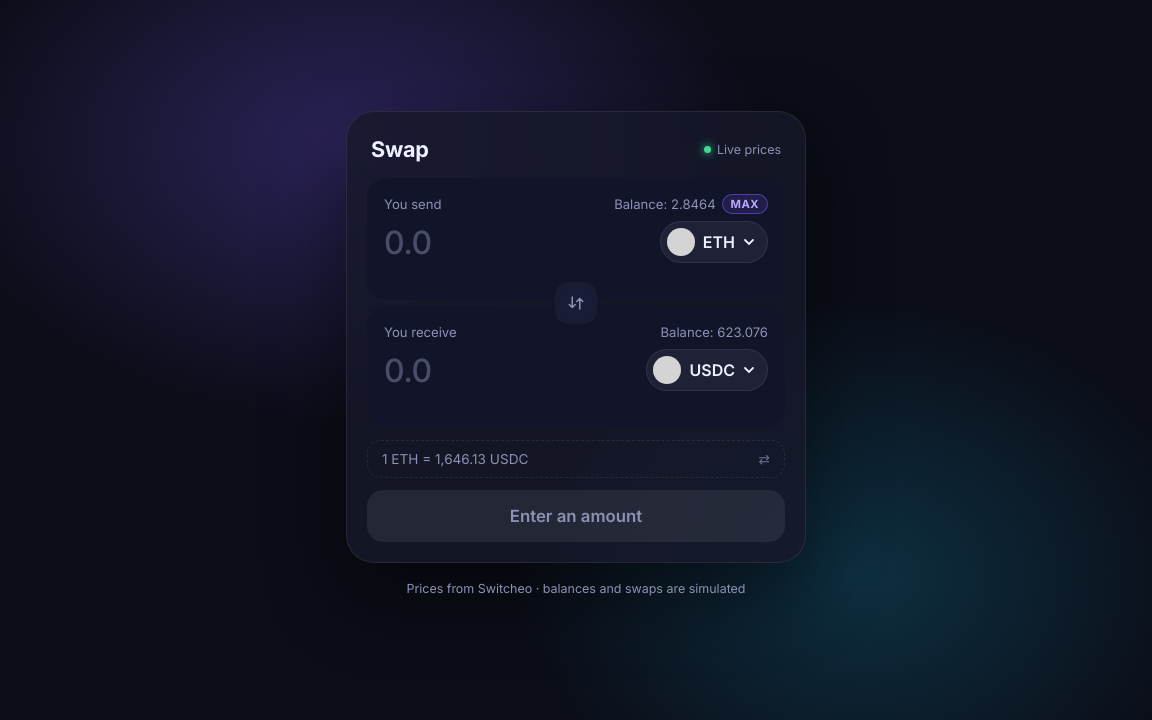
Test case: swap form › shows the error and lets the user retry when the swap fails
In the field labelled "You send": (516, 242) x1=384 y1=223 x2=648 y2=262, type "1"
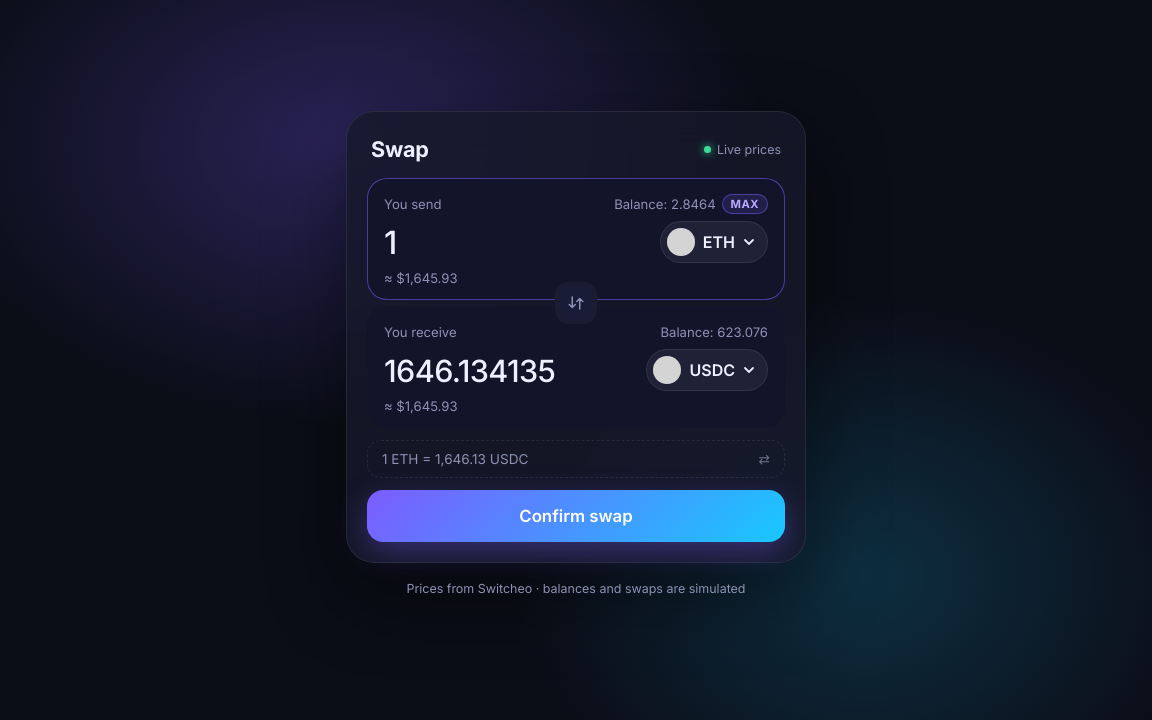
Click the button "Confirm swap": (576, 516) x1=367 y1=490 x2=785 y2=542
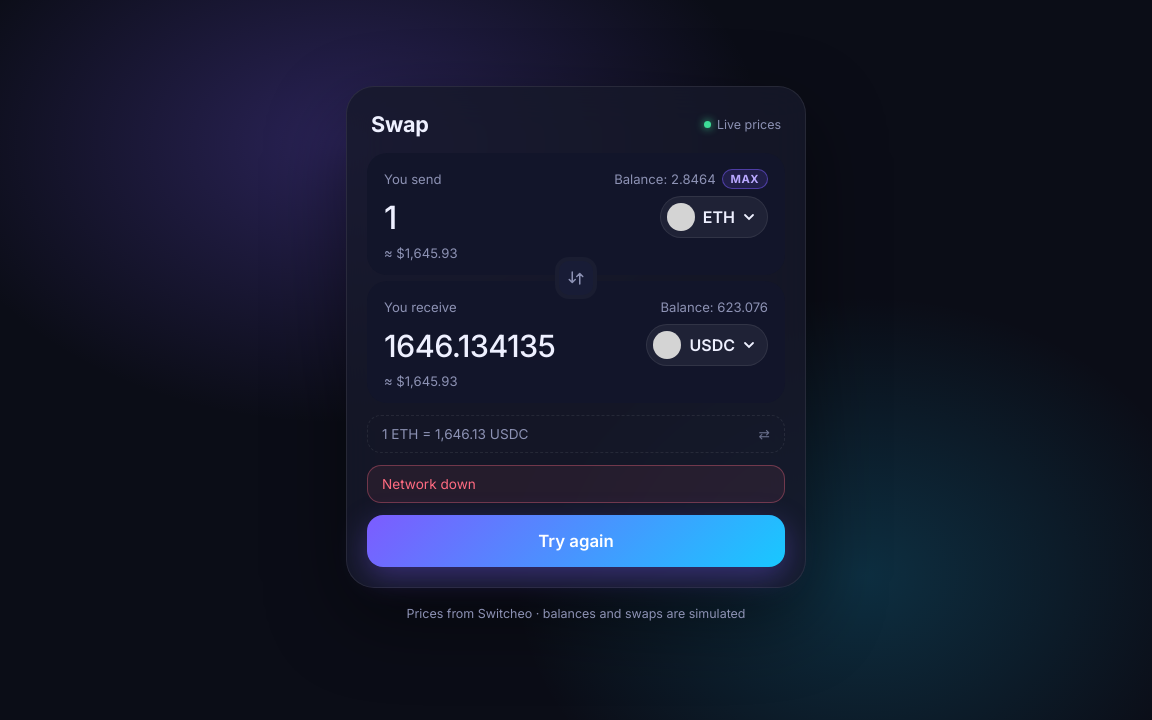
Expected: the text "Network down" is shown, x1=367 y1=465 x2=785 y2=503
Click the button "Try again": (576, 541) x1=367 y1=515 x2=785 y2=567
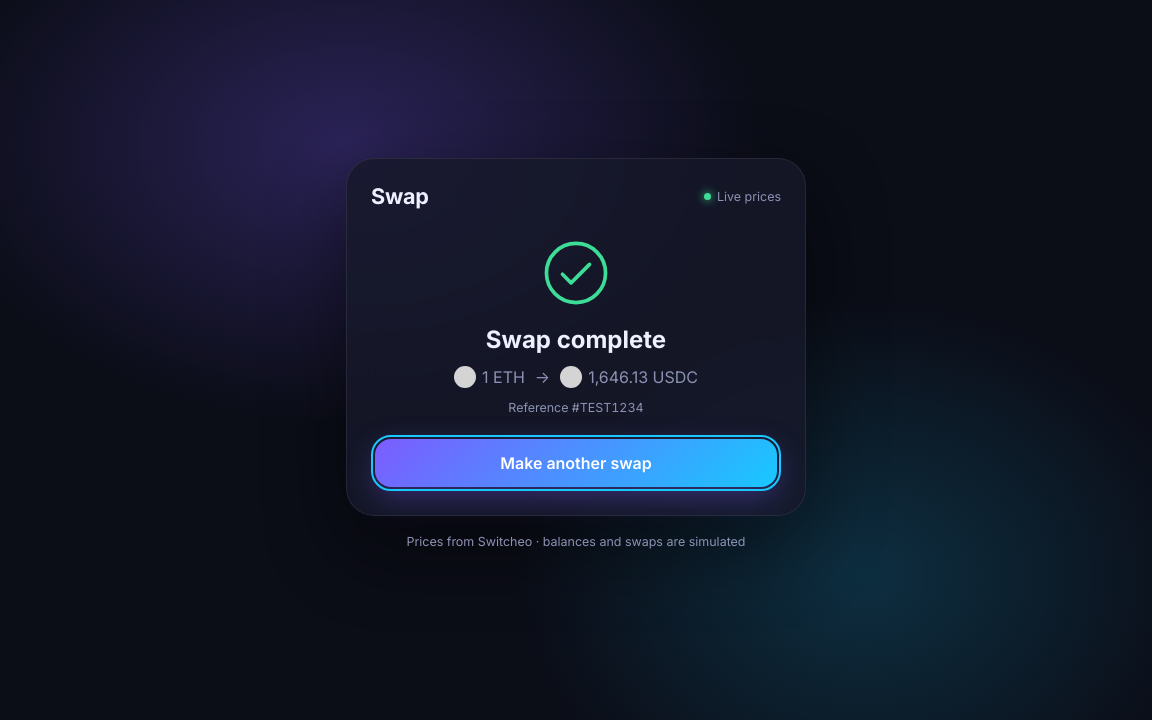
Expected: the heading "Swap complete" is shown, x1=486 y1=325 x2=666 y2=354
